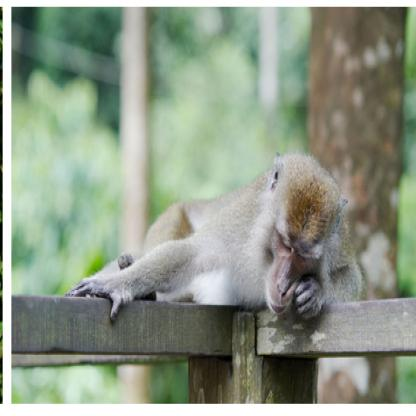monkey: (66, 149, 364, 317)
